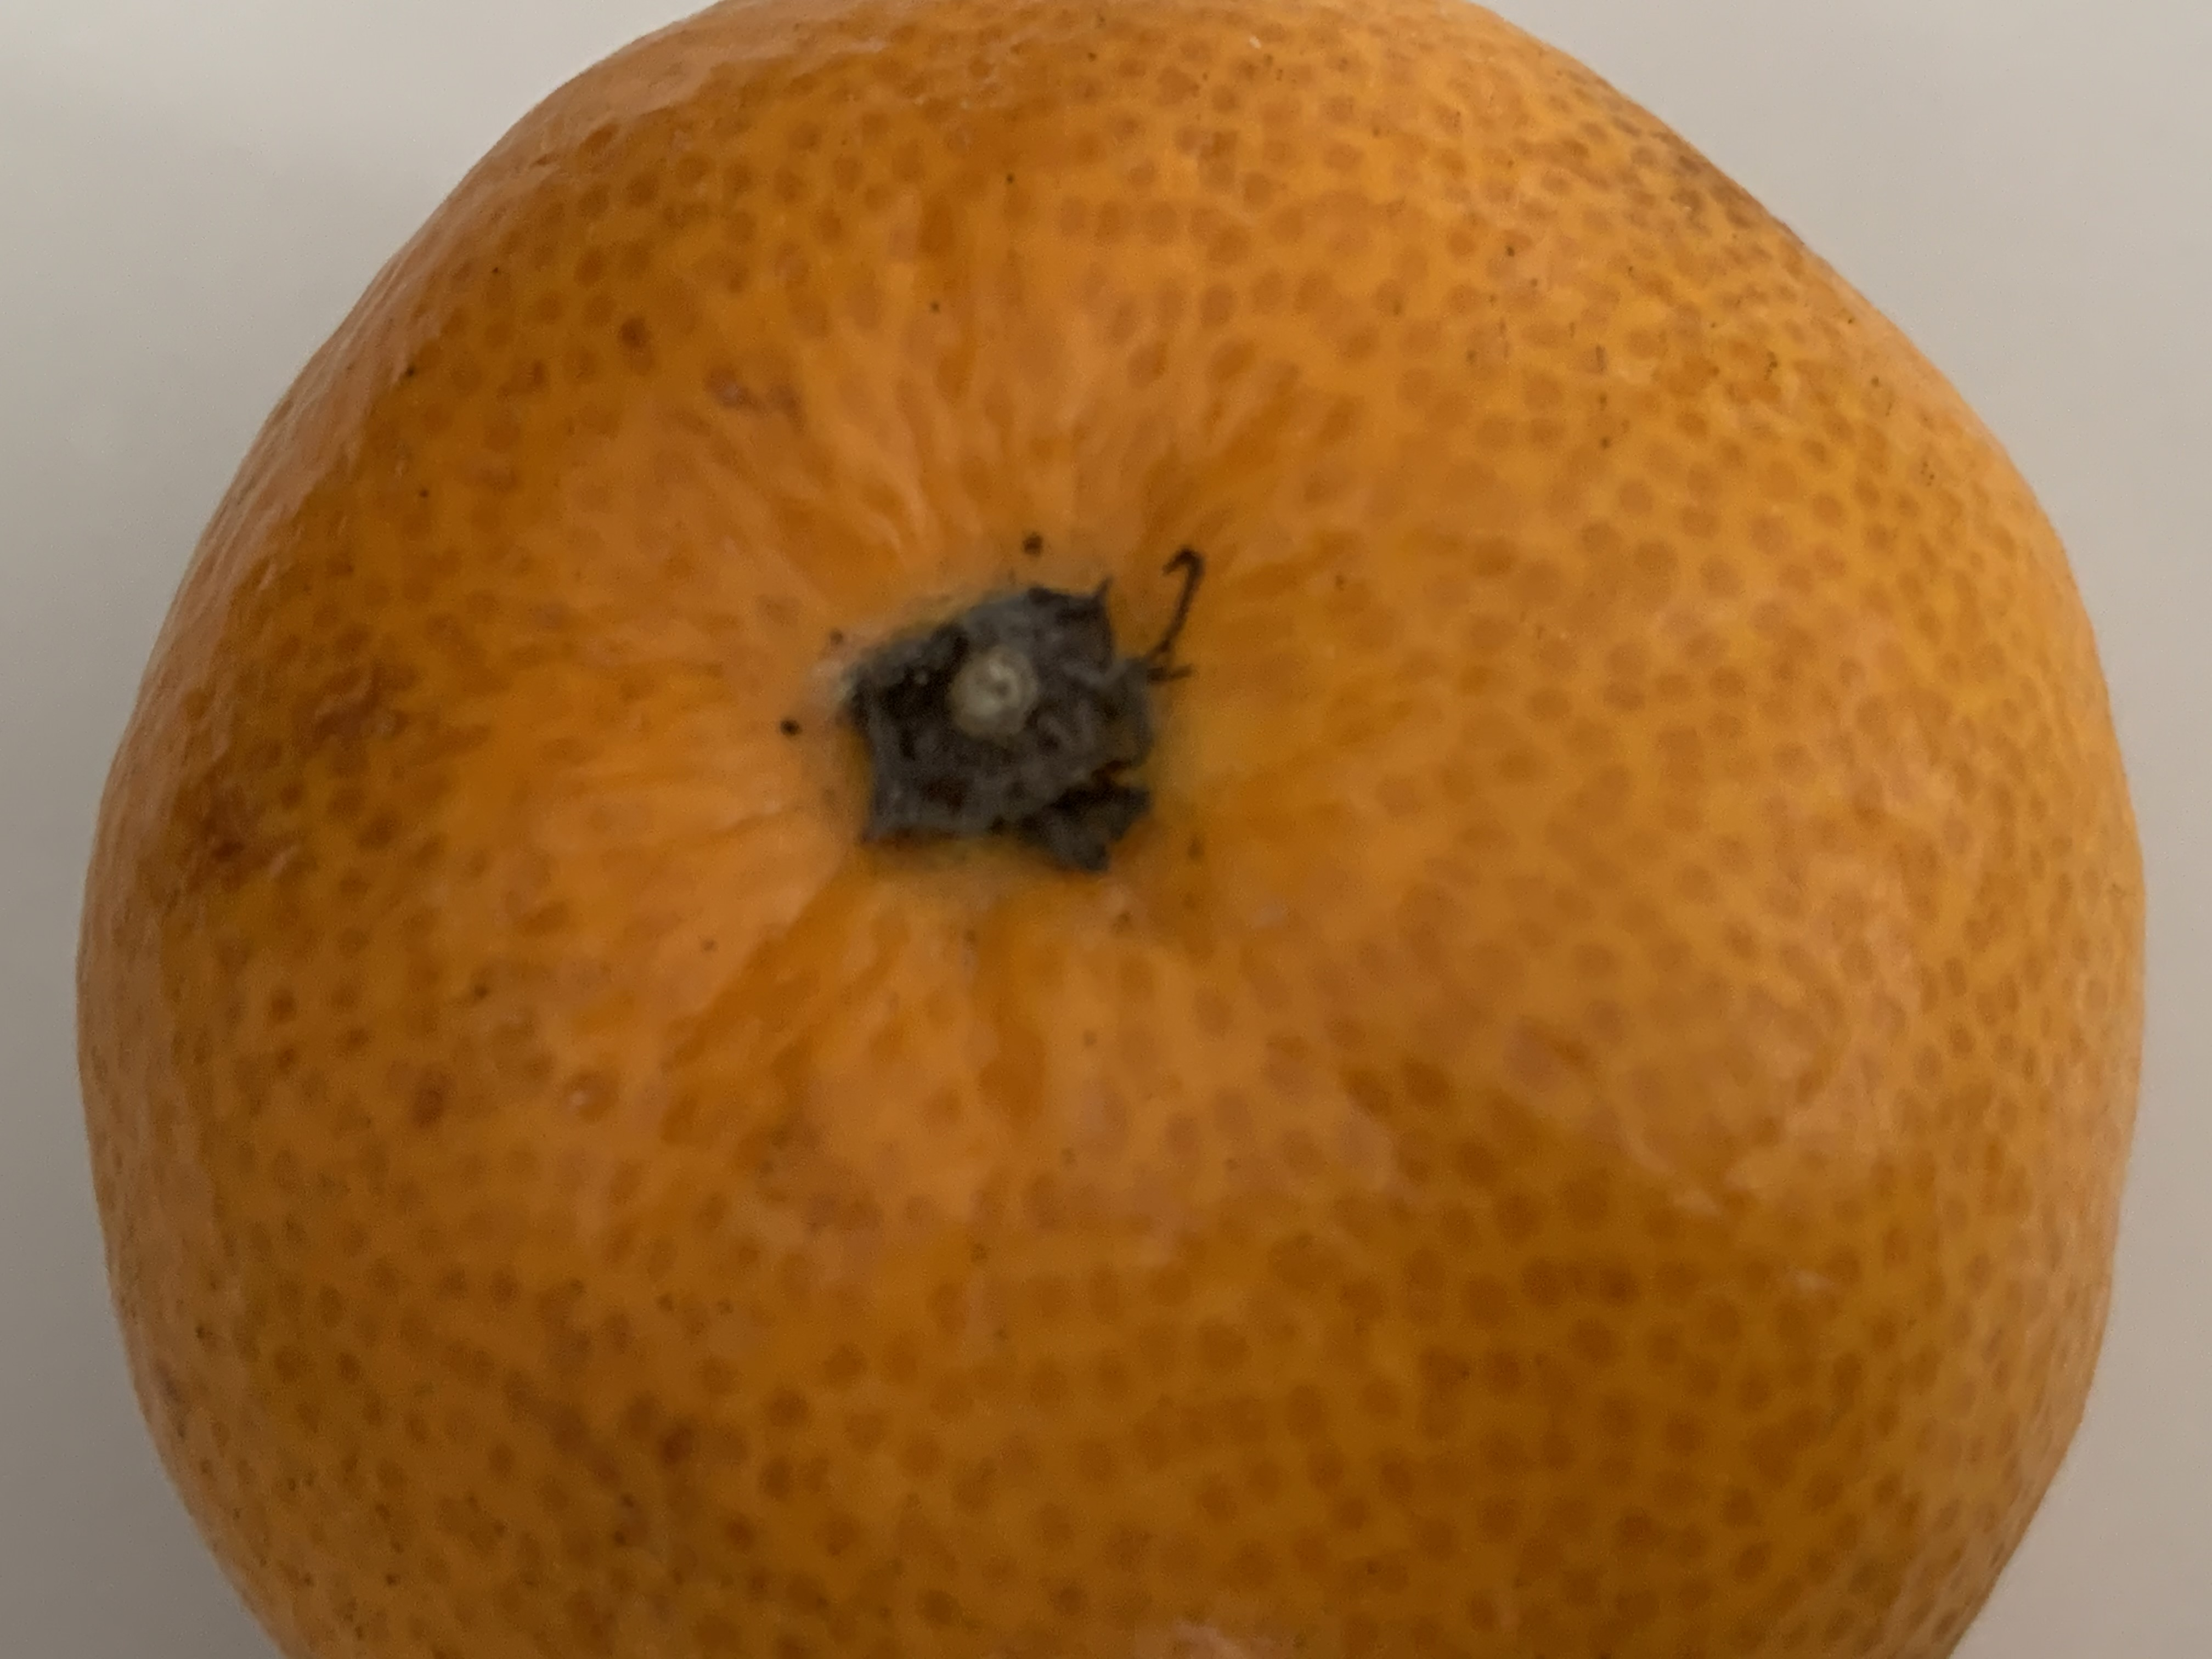orange: (108, 19, 2144, 1659)
